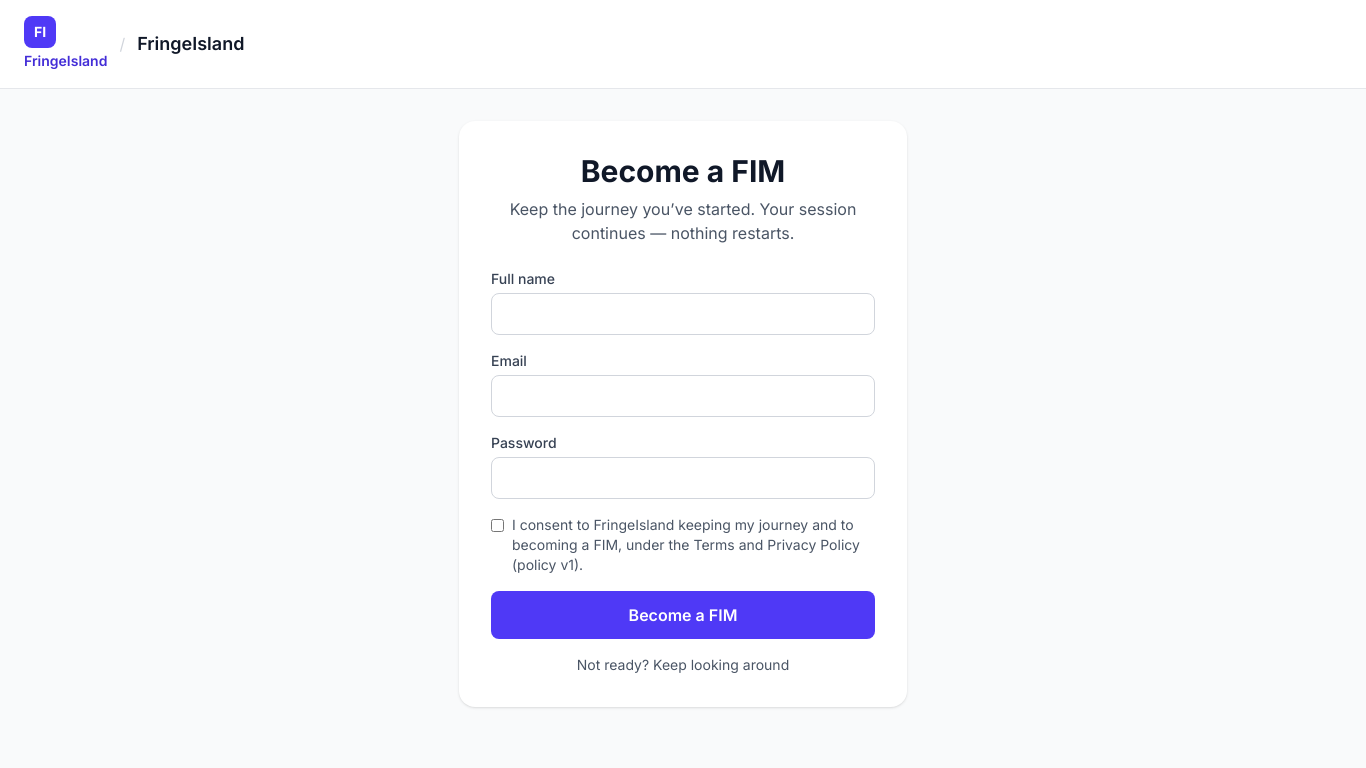
Scenario: FEAT-H004 STORY-1 (unit) — outcome navigation › surfaces a failure and does NOT navigate (no half-FIM UI)
The width and height of the screenshot is (1366, 768).
Type "Mae Jemison" into the field labelled "Full name" at (683, 314), box top-left (491, 293), bottom-right (875, 335)
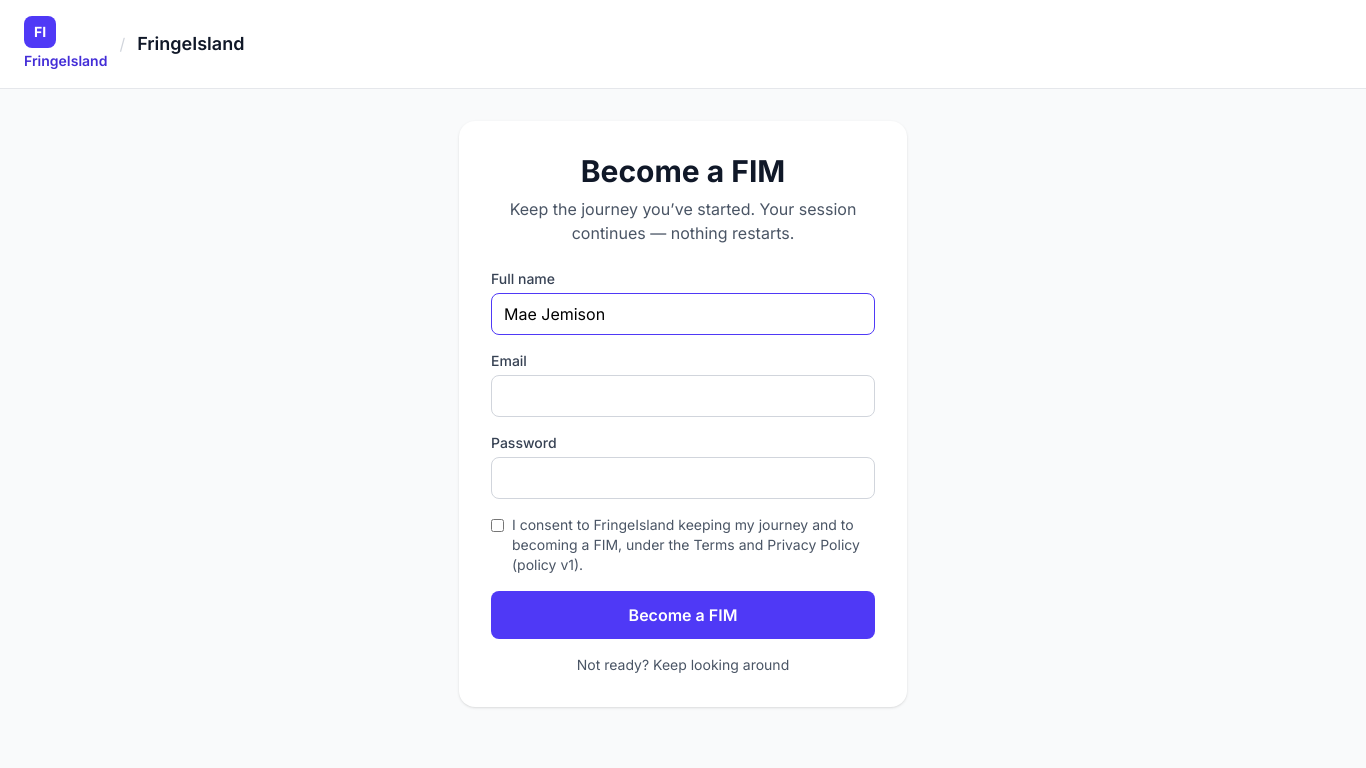
Type "mae@b.test" into the field labelled "Email" at (683, 396), box top-left (491, 375), bottom-right (875, 417)
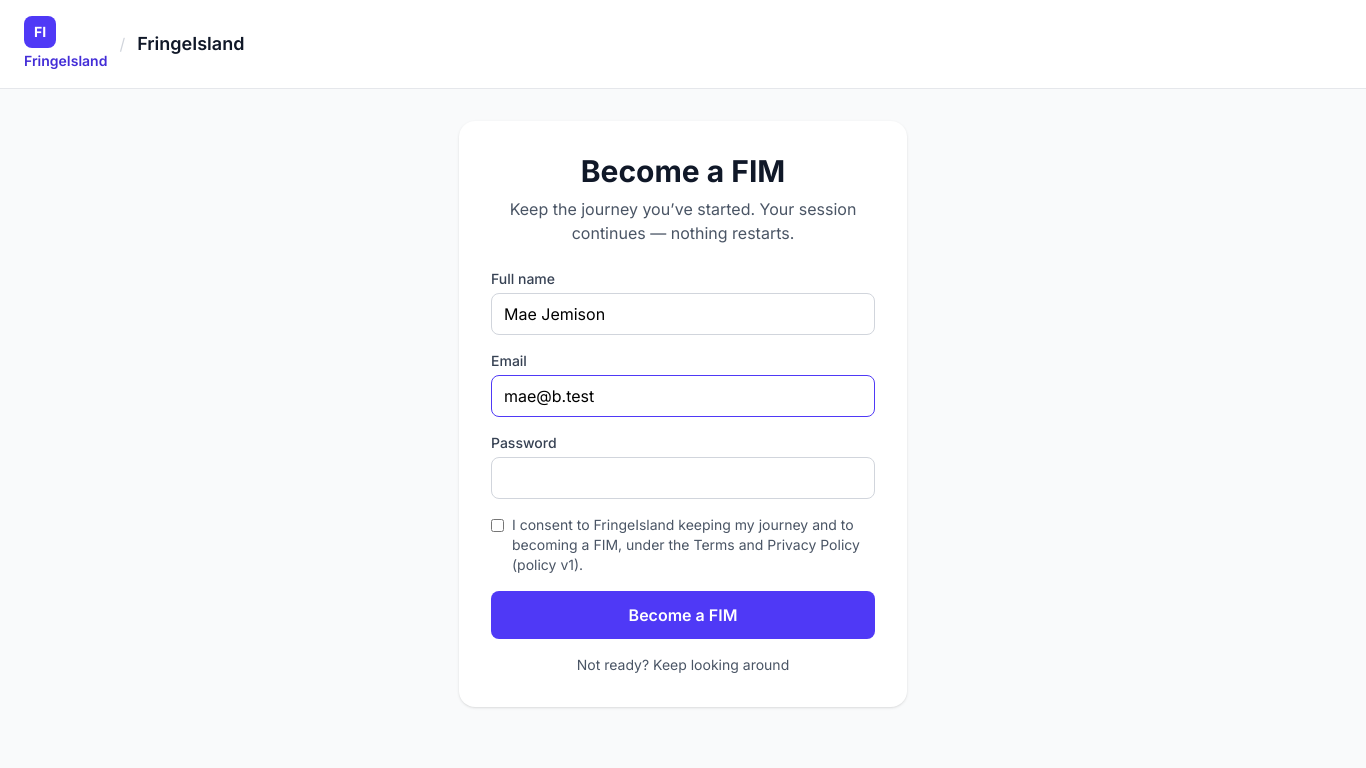
Type "Transcend123!@#" into the password field labelled "Password" at (683, 478), box top-left (491, 457), bottom-right (875, 499)
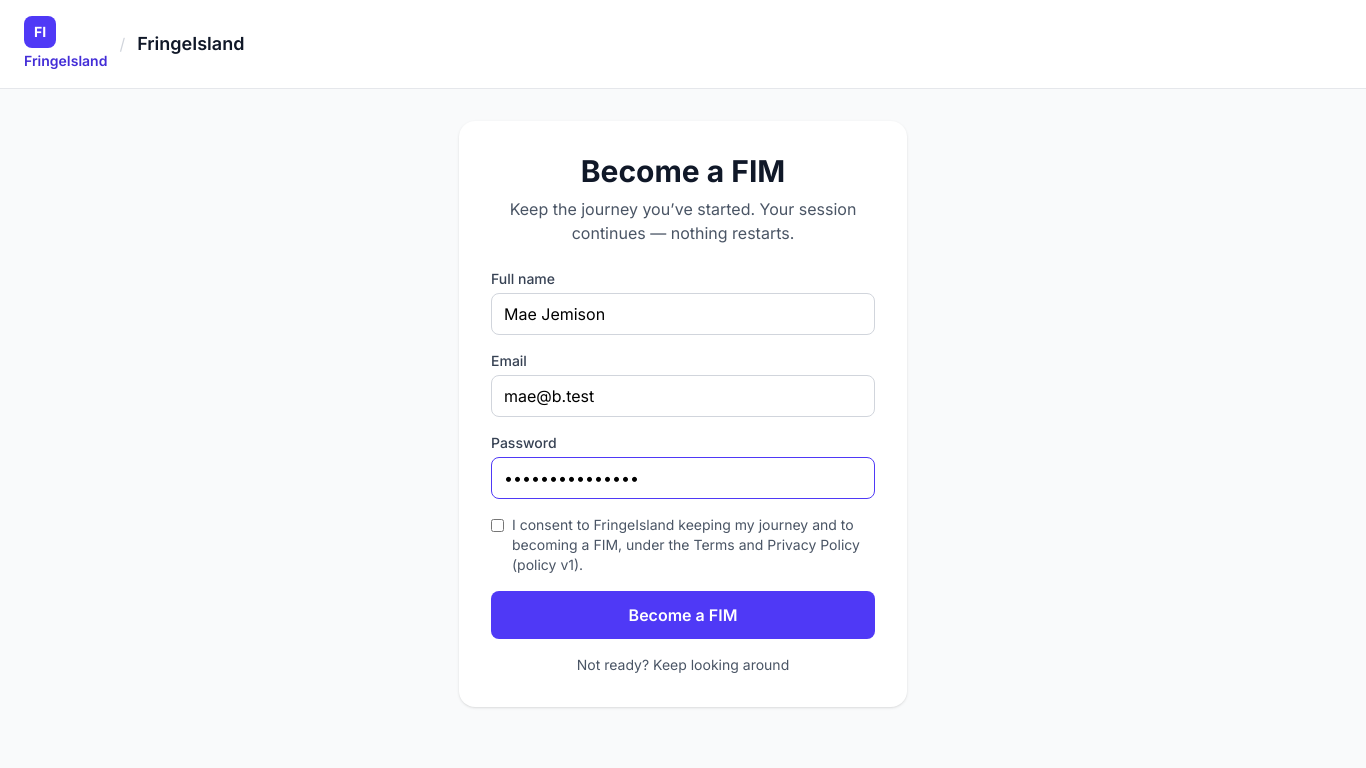
Click the checkbox with test id "consent-checkbox" at (498, 526), box top-left (491, 519), bottom-right (504, 532)
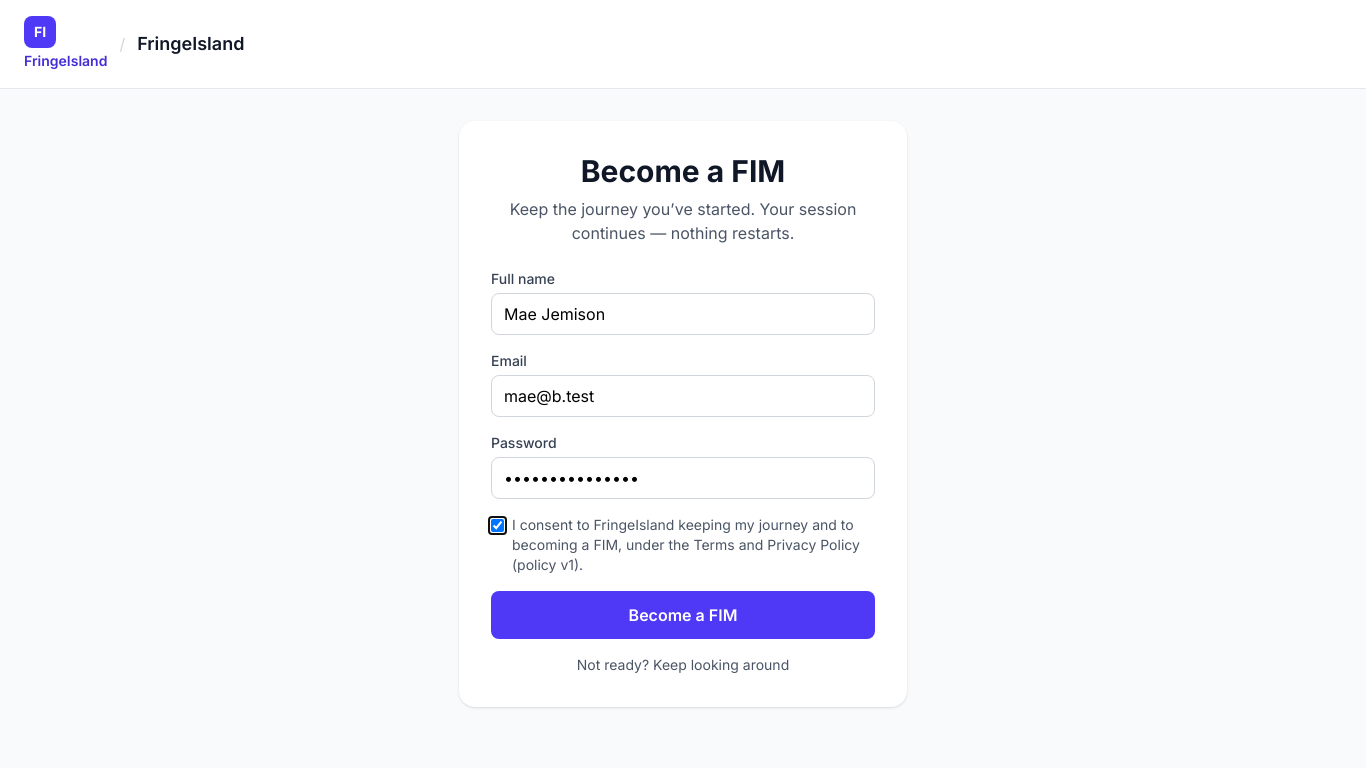
Click the button "Become a FIM" at (683, 615), box top-left (491, 591), bottom-right (875, 639)
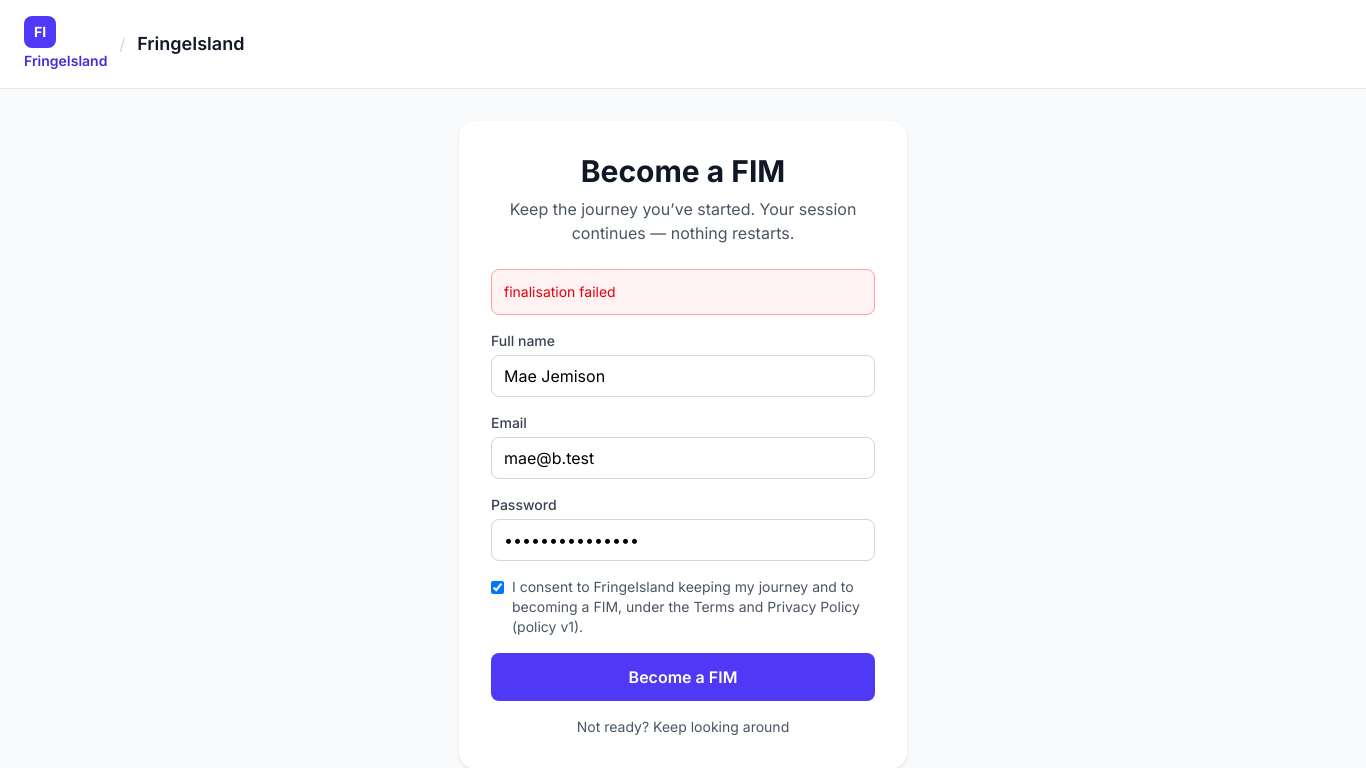
Now the message with test id "inline-error" reads "finalisation failed", box top-left (504, 283), bottom-right (616, 300)
